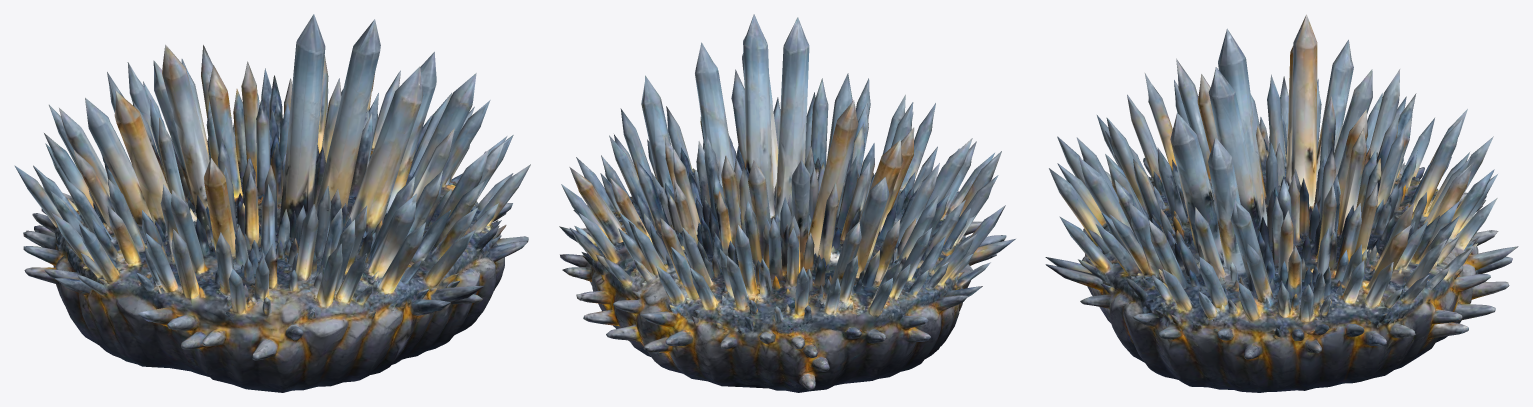
Rendered from crystal.glb.
3 renders of one model, left to right at view 1: azimuth 30°, elevation 25°; view 2: azimuth 150°, elevation 25°; view 3: azimuth 270°, elevation 25°, orthographic. The views are drawn at different scales.
Visible parts, largest first — view 1: node_0; view 2: node_0; view 3: node_0.
Boxes of the visible parts, x1,y1,x2,y2 form: node_0: (14, 14, 530, 392); node_0: (559, 14, 1015, 392); node_0: (1045, 14, 1518, 392).
Size of the model in its own units: 1.07 by 0.7495 by 1.08.
Materials: 1 (1 with a texture image).
